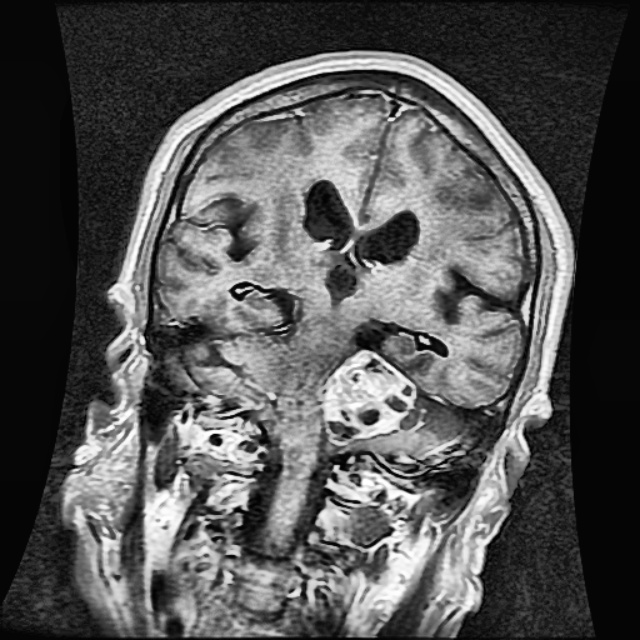Glioma: (324, 348, 417, 445)
